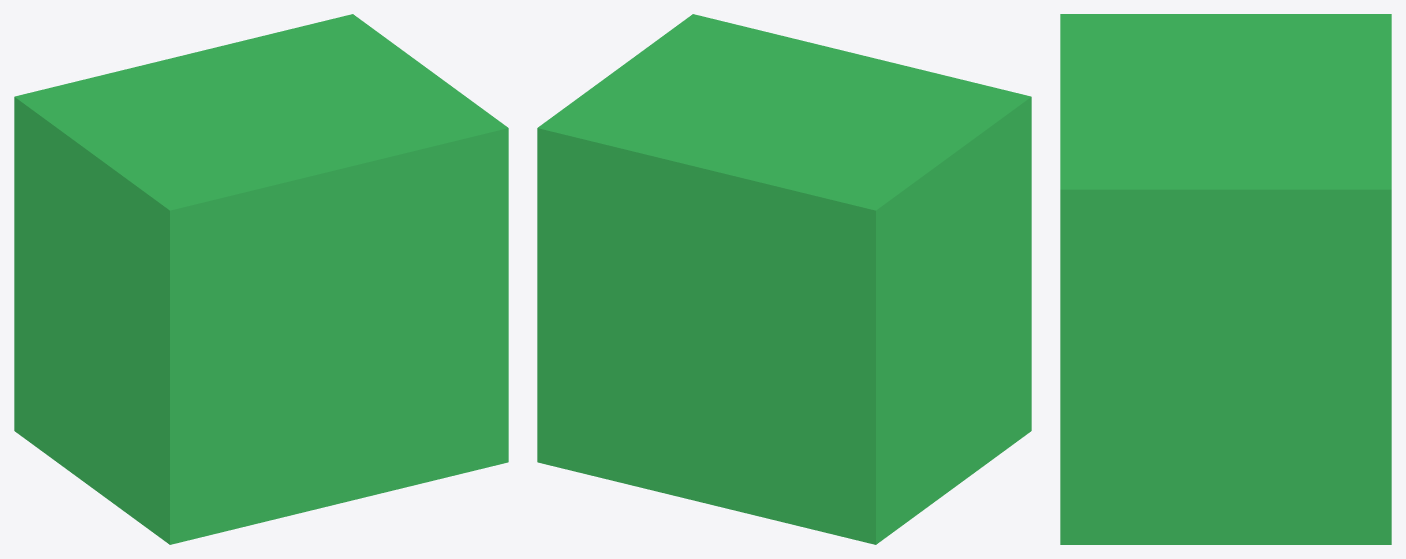
File: cube-globe2.gltf
The picture shows the model from 3 angles, left to right: view 1: azimuth 30°, elevation 25°; view 2: azimuth 150°, elevation 25°; view 3: azimuth 270°, elevation 25°; orthographic projection. The views are drawn at different scales.
Parts seen in each view (by area): view 1: Box; view 2: Box; view 3: Box.
Boxes of the visible parts, <box> form: Box: <box>14,14,508,544</box>; Box: <box>537,14,1031,544</box>; Box: <box>1060,14,1391,544</box>.
Bounding box in the file's own units: 2.87 × 2.71 × 2.29.
